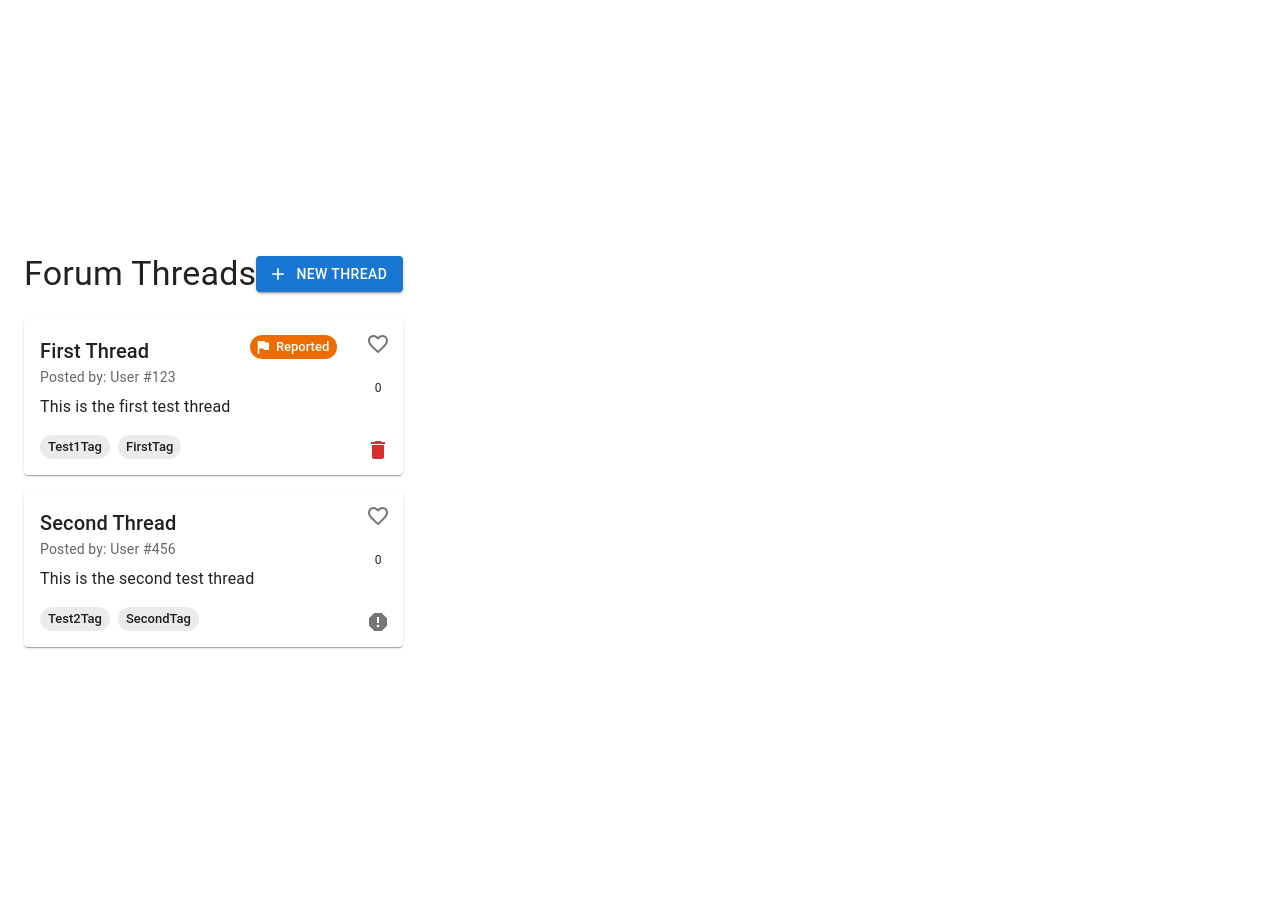
ThreadListPage › creates a new thread successfully
# Open create thread dialog
Click the button "New Thread".
click(330, 274)  # box [256, 256, 403, 292]
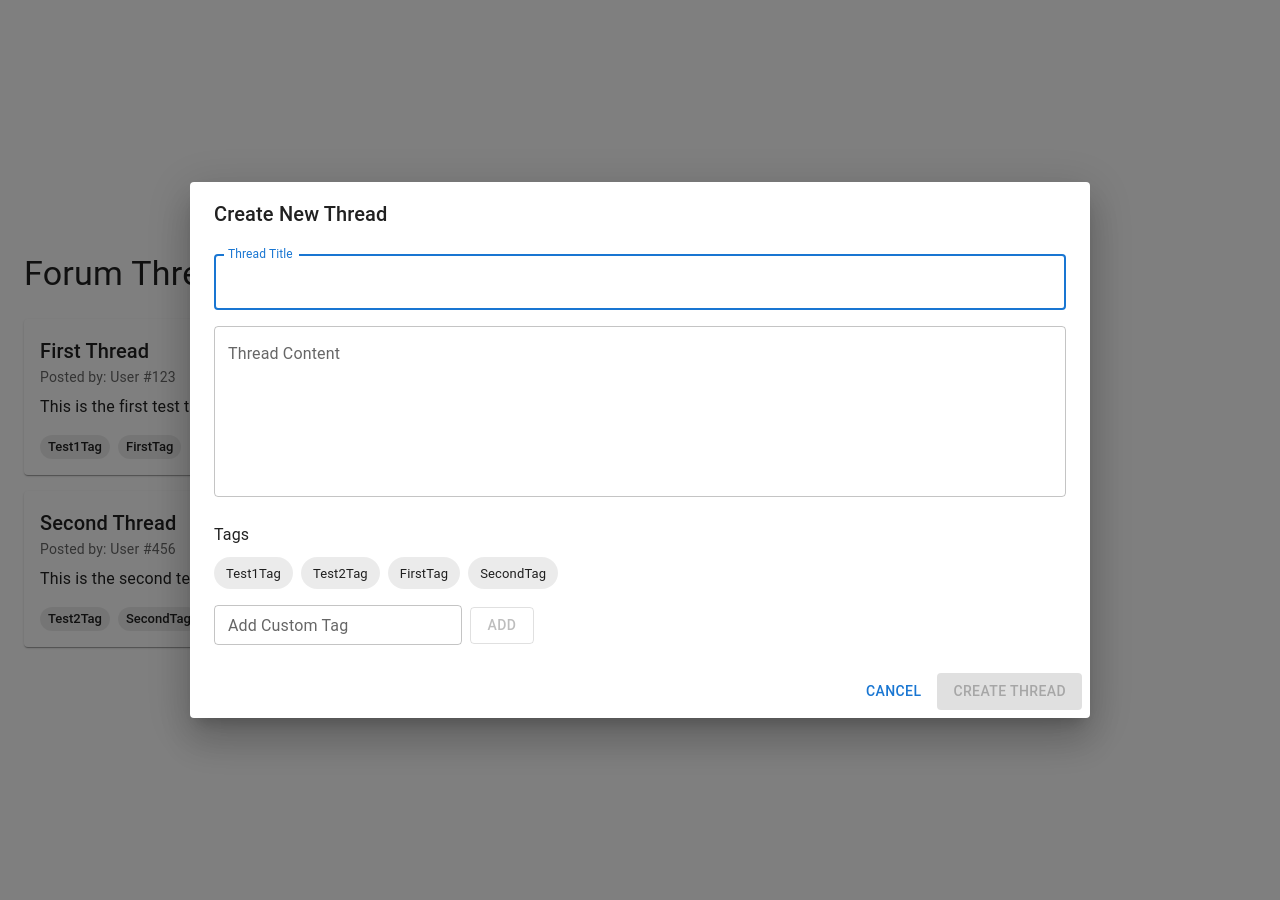
# Fill form
Type "New Test Thread" into the field labelled "Thread Title".
click(640, 282); type("New Test Thread")  # box [214, 254, 1066, 310]
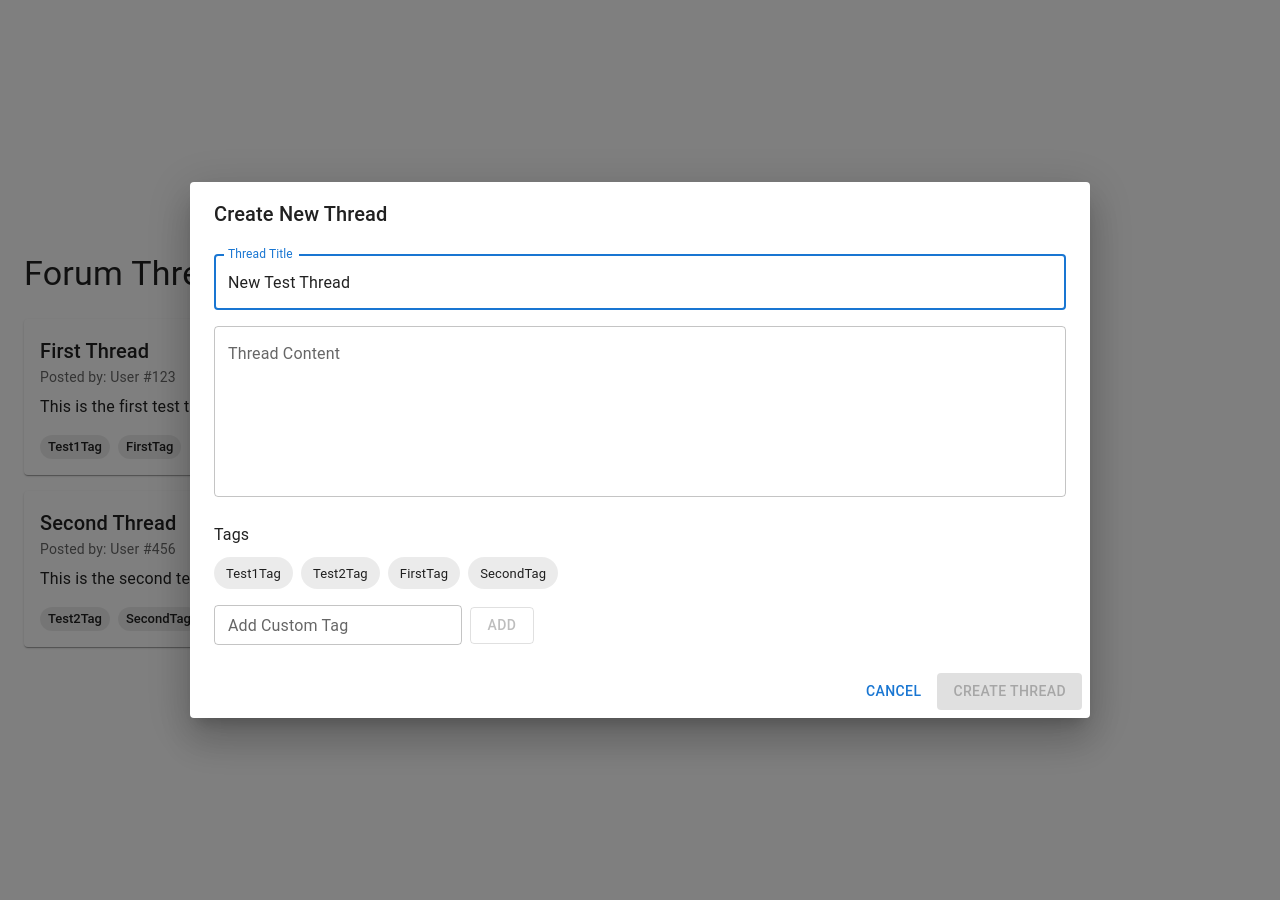
Type "This is a newly created thread for testing" into the text box labelled "Thread Content".
click(640, 412); type("This is a newly created thread for testing")  # box [228, 343, 1052, 481]
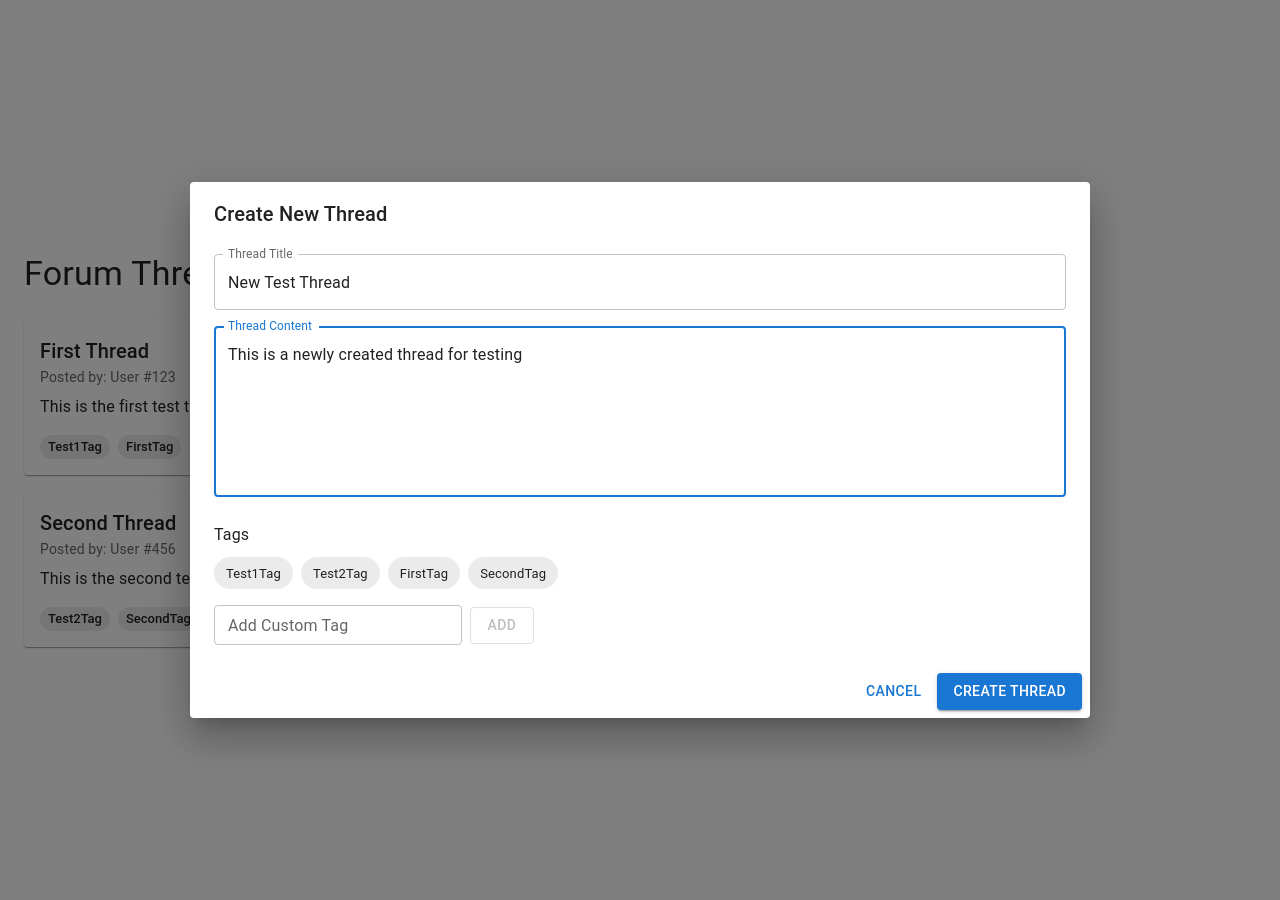
# Select tags
Click the button "FirstTag".
click(424, 573)  # box [388, 557, 460, 589]
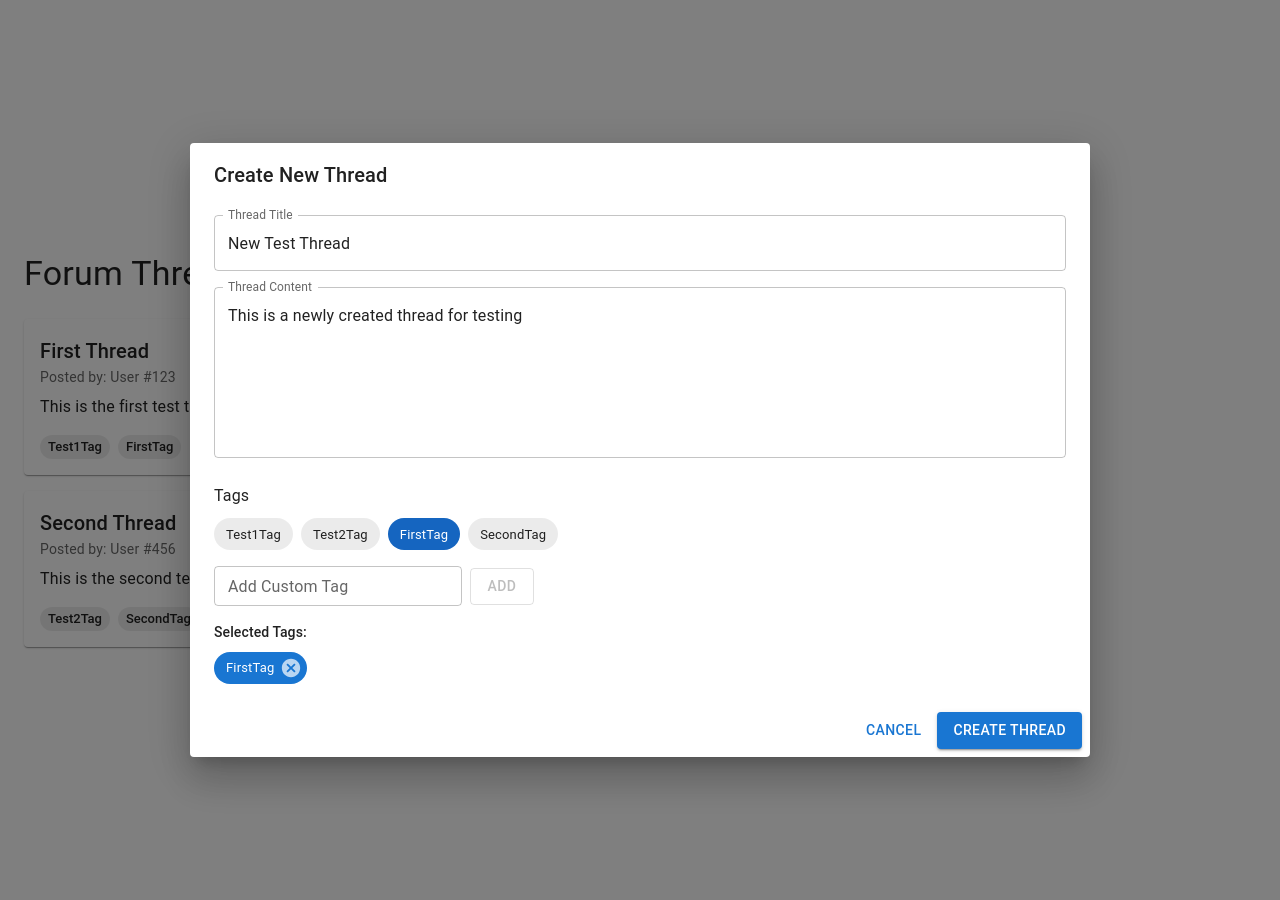
# Submit form
Click the button "Create Thread".
click(1010, 730)  # box [937, 712, 1082, 749]
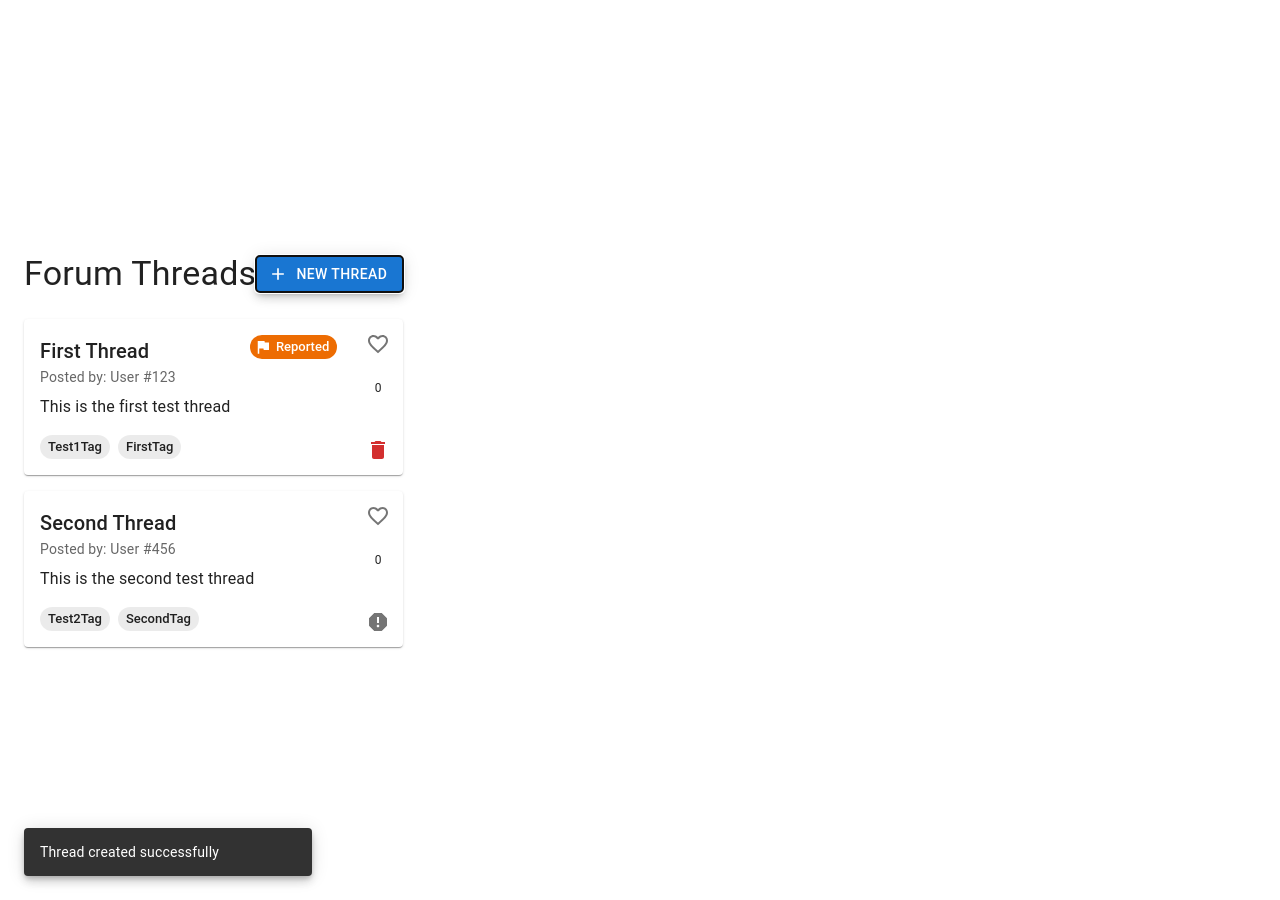
Check: the text "Thread created successfully" is shown, box [40, 844, 219, 860]
